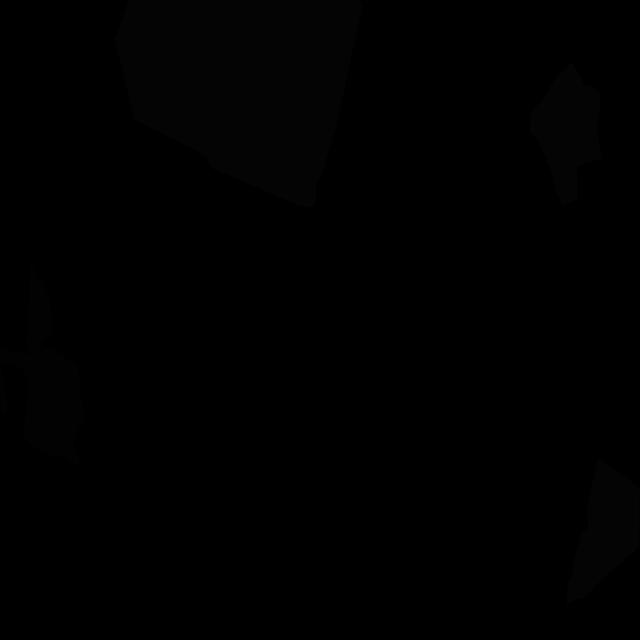cardboard: (0, 346, 84, 464), (26, 261, 53, 356)
soft_plastic: (115, 0, 362, 208), (567, 458, 640, 605), (530, 61, 602, 206)
